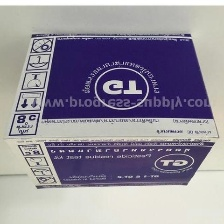book: (0, 27, 221, 192)
